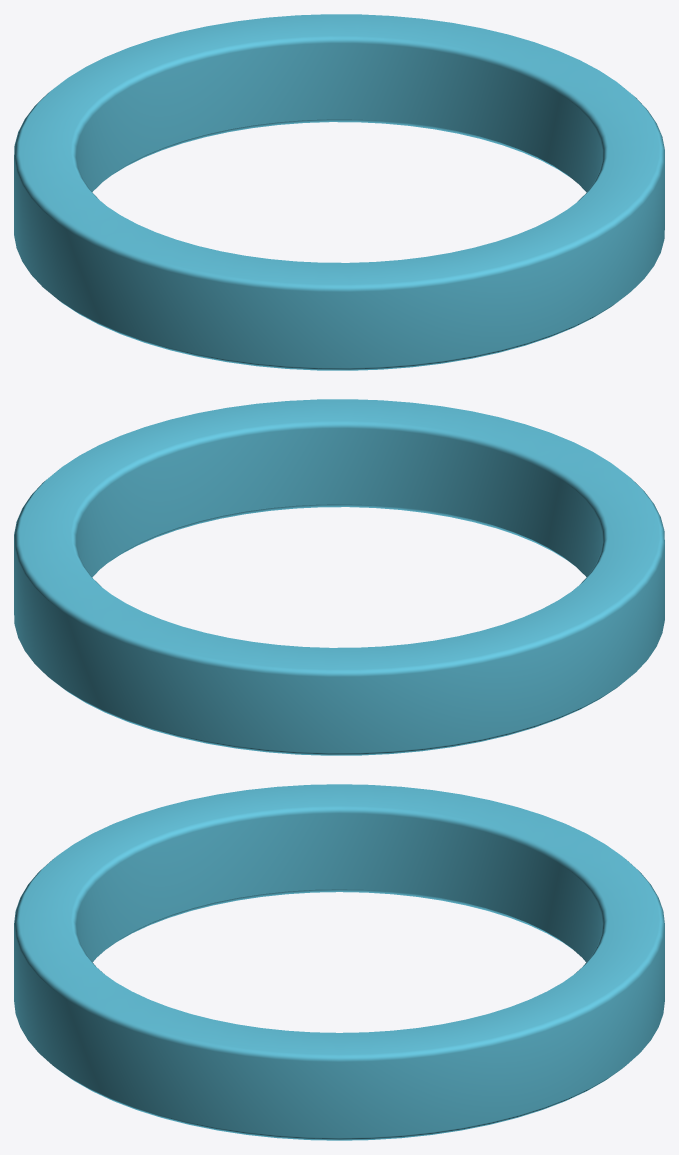
3 views of the same model, one above another, from view 1: azimuth 30°, elevation 25°; view 2: azimuth 150°, elevation 25°; view 3: azimuth 270°, elevation 25° (orthographic).
Parts seen in each view (by area): view 1: seal_body; view 2: seal_body; view 3: seal_body.
Part boxes in pixels (x1,y1,x2,y2): seal_body: (14,14,664,370); seal_body: (14,399,664,755); seal_body: (14,784,664,1140).
Size of the model in its own units: 0.078 by 0.0114 by 0.078.
